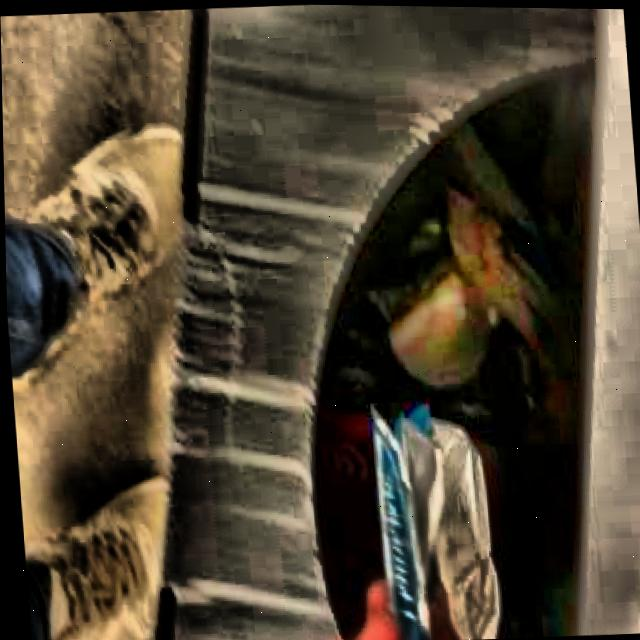plastic: (369, 410, 496, 640)
